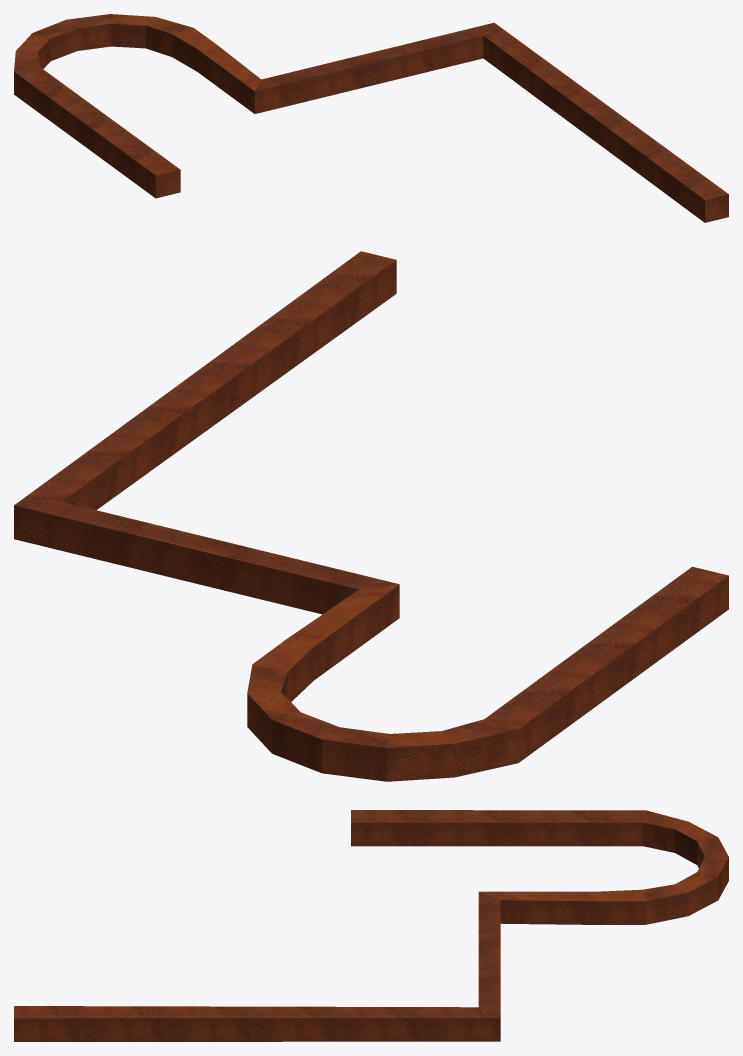
File: CeilingTrimpiece.fbx
3 views of the same model, one above another, from view 1: azimuth 30°, elevation 25°; view 2: azimuth 150°, elevation 25°; view 3: azimuth 270°, elevation 25° (orthographic). The views are drawn at different scales.
Visible parts, largest first — view 1: Circle.005; view 2: Circle.005; view 3: Circle.005.
Part boxes in pixels (bbox=[...]): Circle.005: bbox=[14, 14, 728, 222]; Circle.005: bbox=[14, 251, 728, 781]; Circle.005: bbox=[14, 810, 728, 1041].
Size of the model in its own units: 1171 by 62.2 by 1701.
